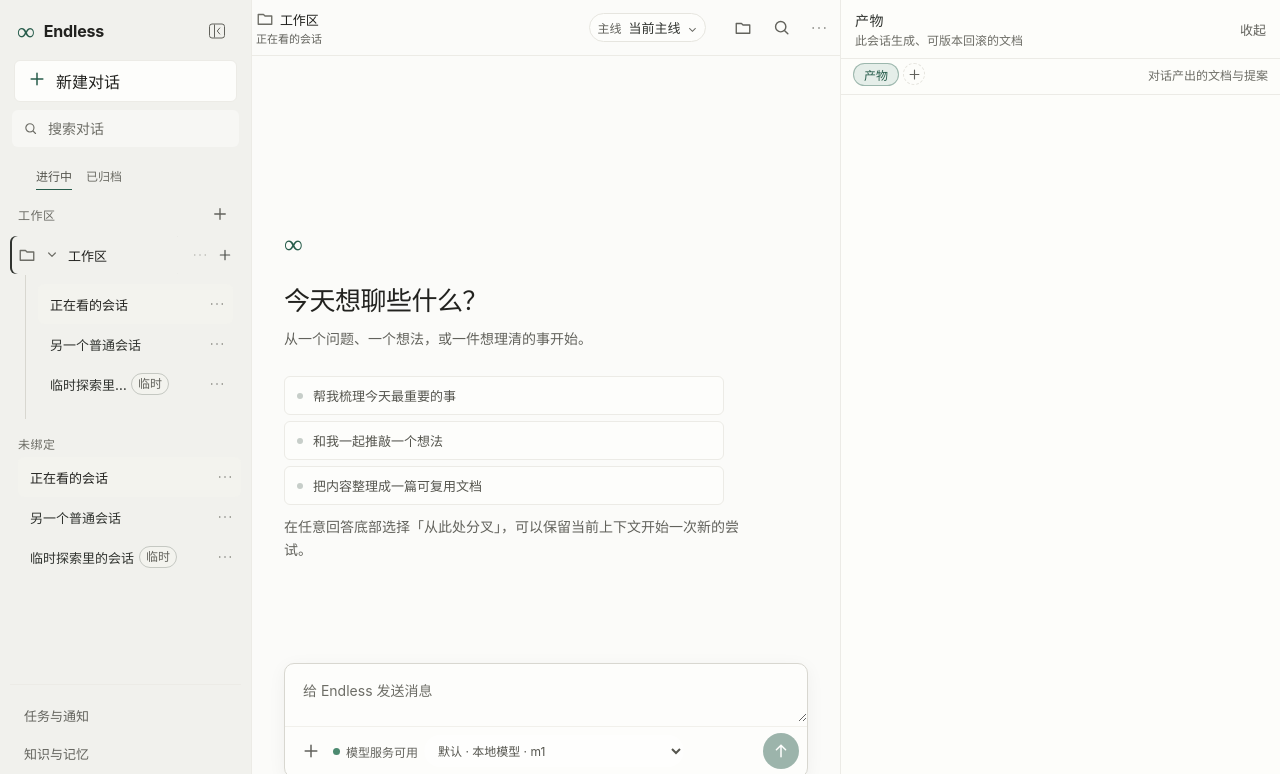
Test case: C4：真 App 里的「会话」视图接线 › ②临时对话列表来自既有会话列表：ephemeral 的在、普通的不在
Click the button with class "workspace-view-add" at (914, 74), box [903,63,925,85]
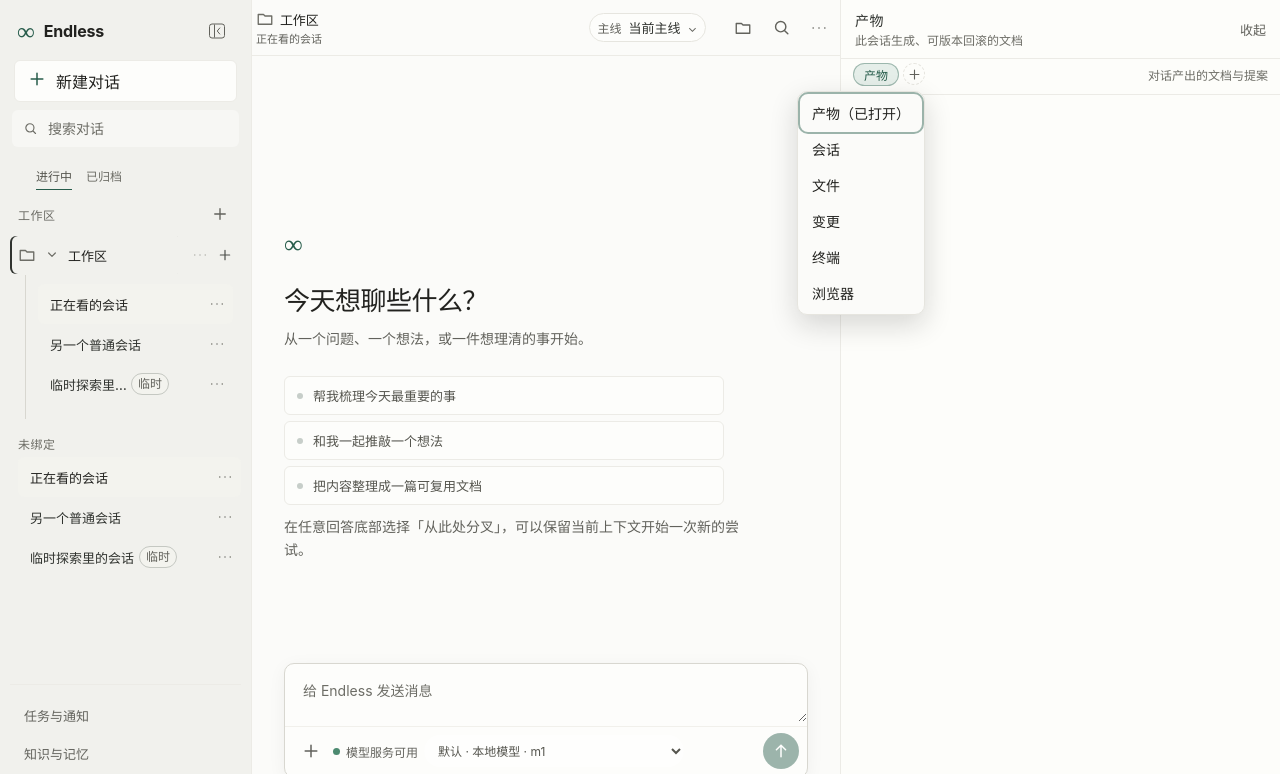
Click the menu item "会话" at (861, 149), box [802,132,920,166]
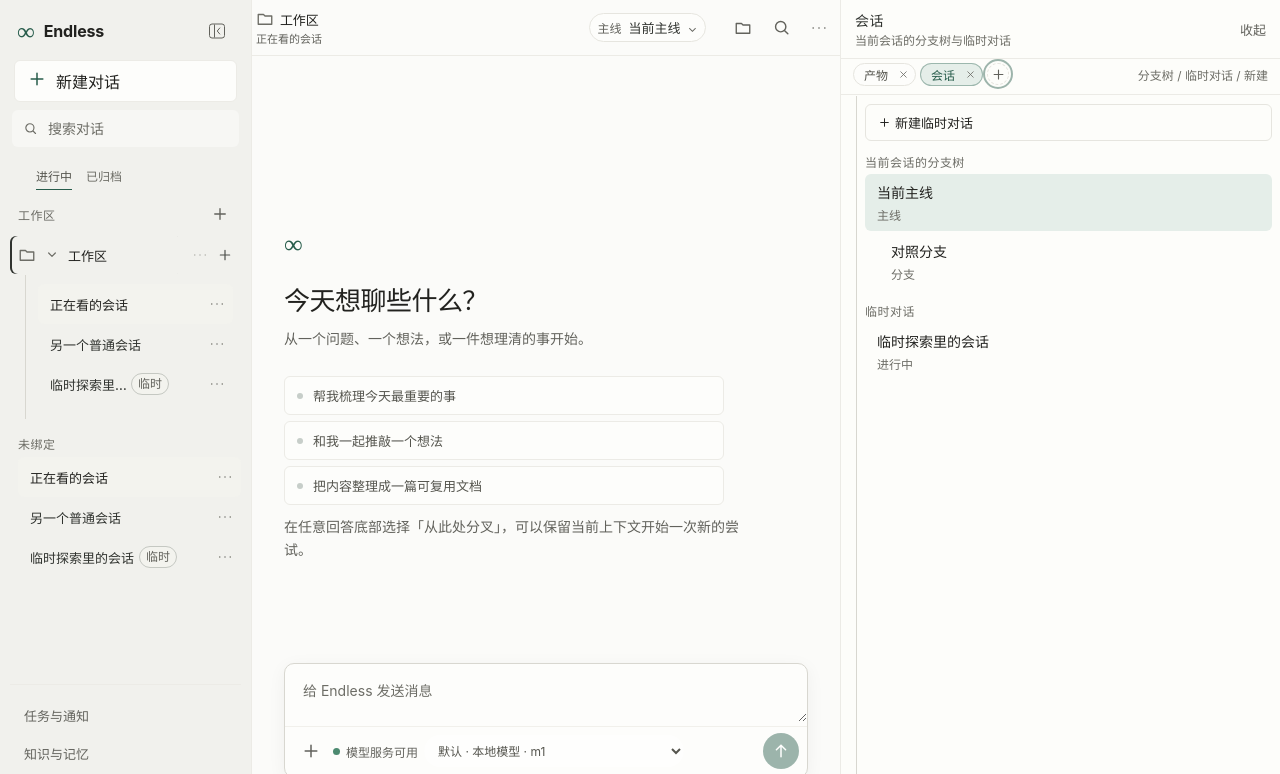
Check: the element with class "workspace-temporary-list" does not show "另一个普通会话"
Check: the list with class "workspace-temporary-list" shows "临时探索里的会话", box [865,323,1272,380]
